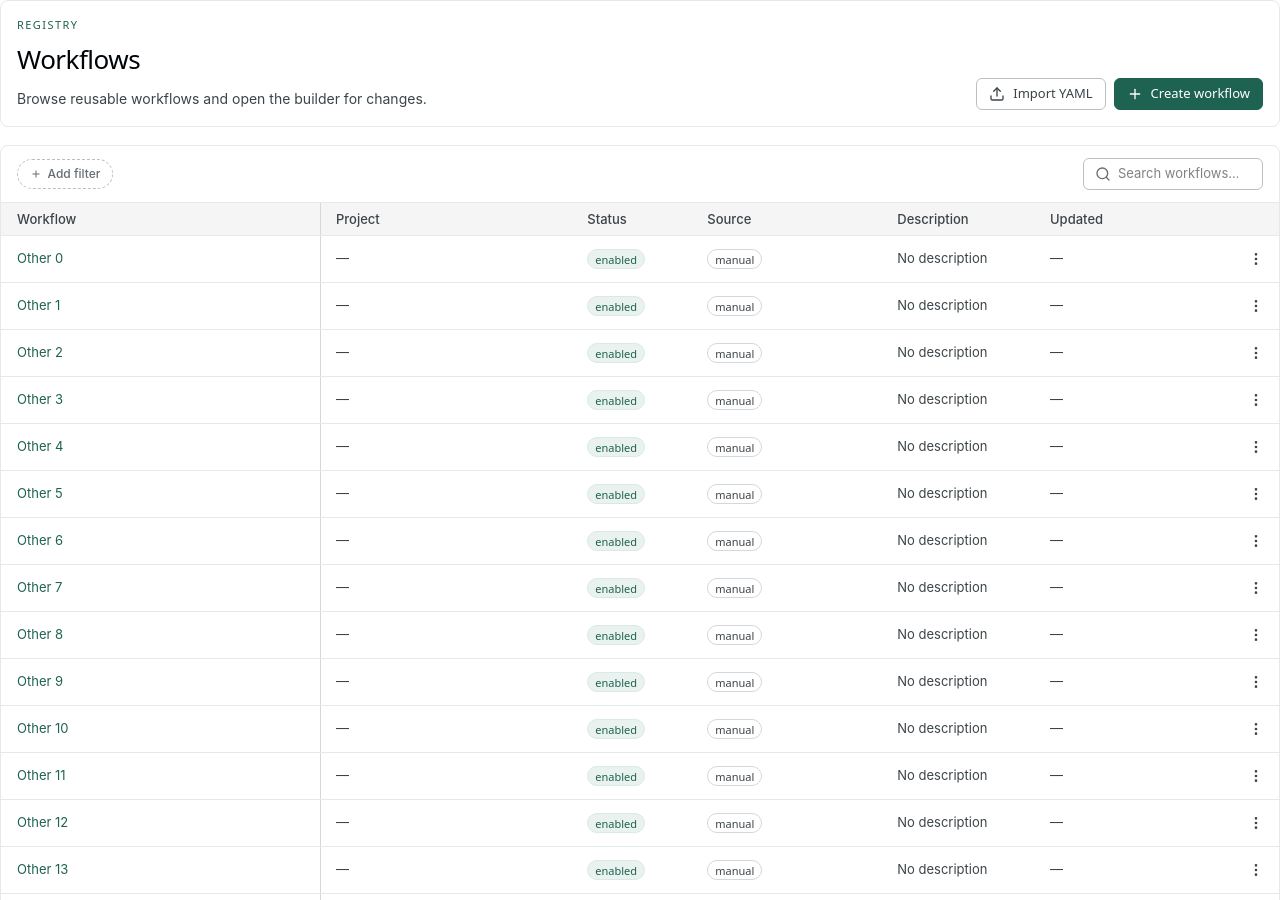
it: offers the project filter only through Add filter and restores unassigned workflows when it is removed
This screenshot has width=1280, height=900.
Expected: the text "Project · " is not shown
Click the button "Add filter": point(65, 174) [17, 159, 113, 189]
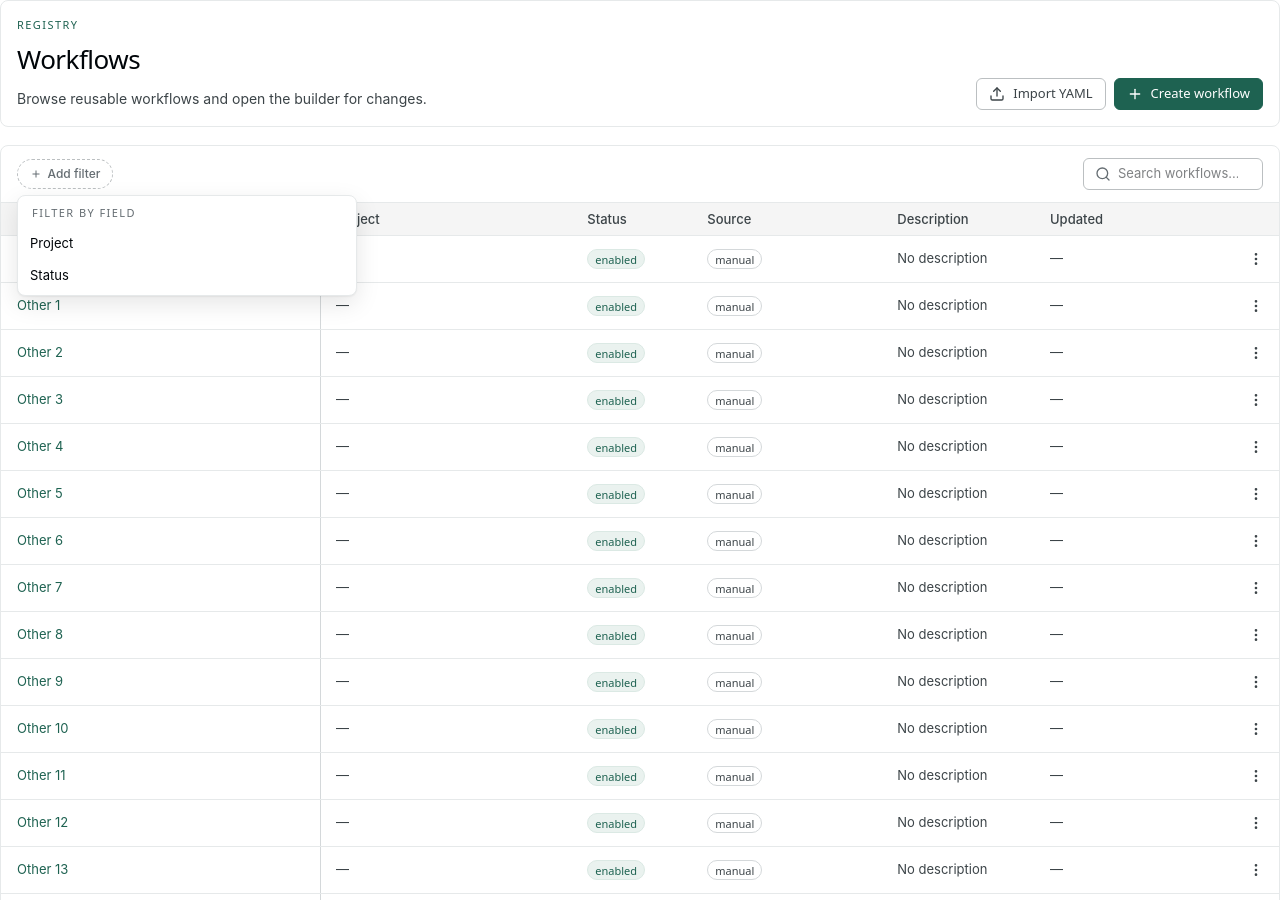
Click the menu item "Project": point(52, 243) [22, 227, 352, 259]
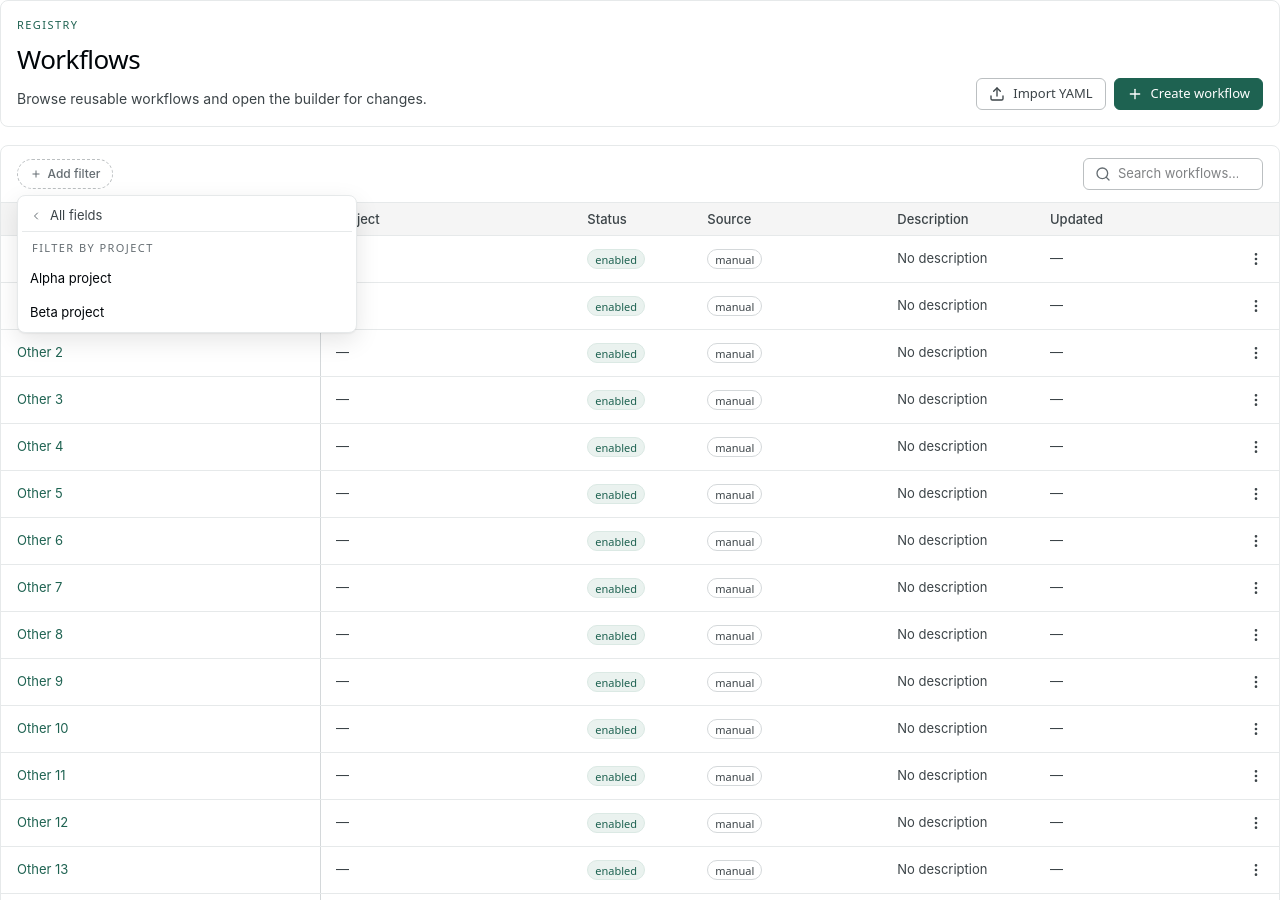
Click the menu item "Beta project": point(67, 312) [22, 296, 352, 328]
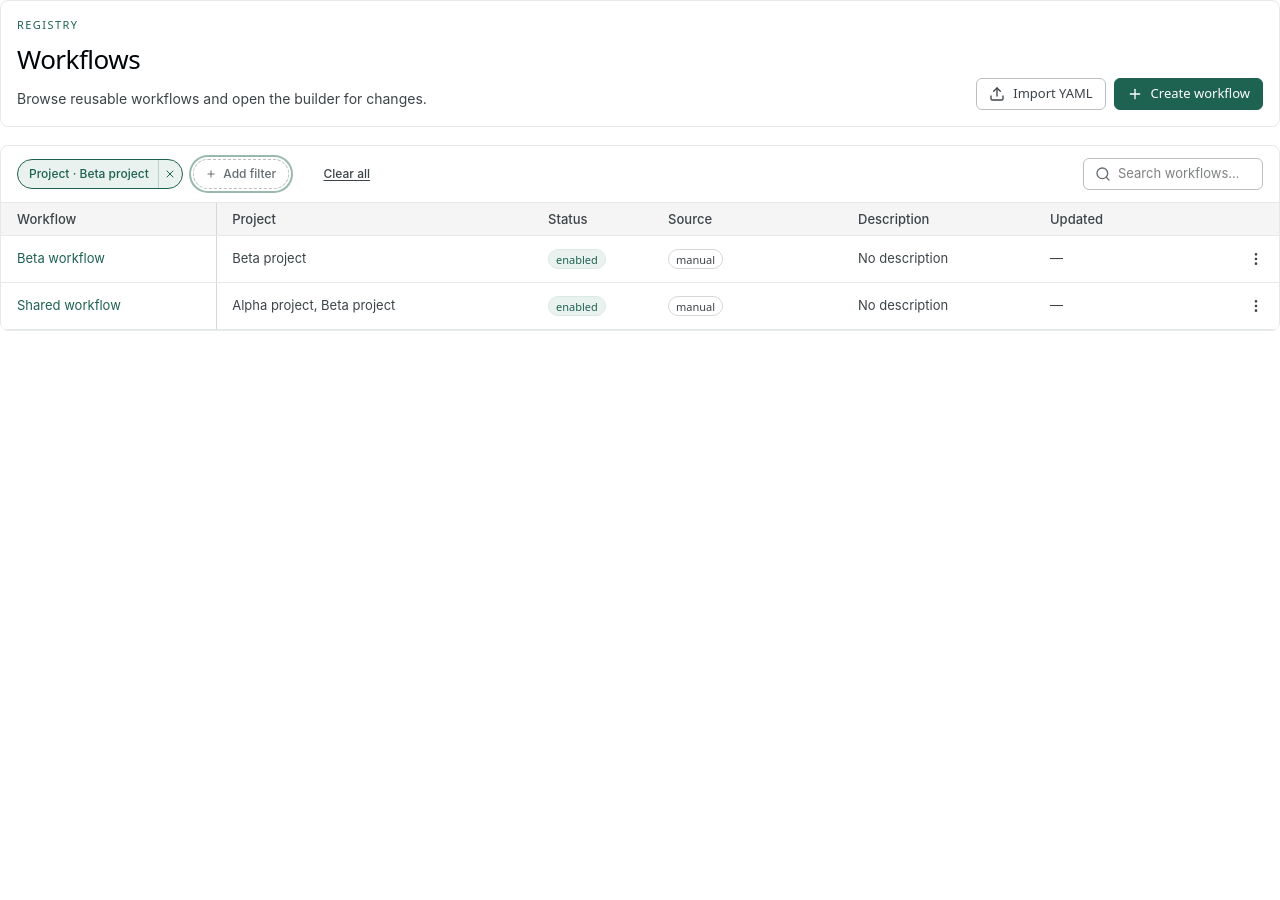
Expected: the link "Beta workflow" is shown, [17, 250, 105, 266]
Expected: the text "Beta project" is shown, [232, 250, 306, 266]
Click the button named "Remove Project filter": point(170, 174) [158, 160, 182, 188]
(page scrolled)
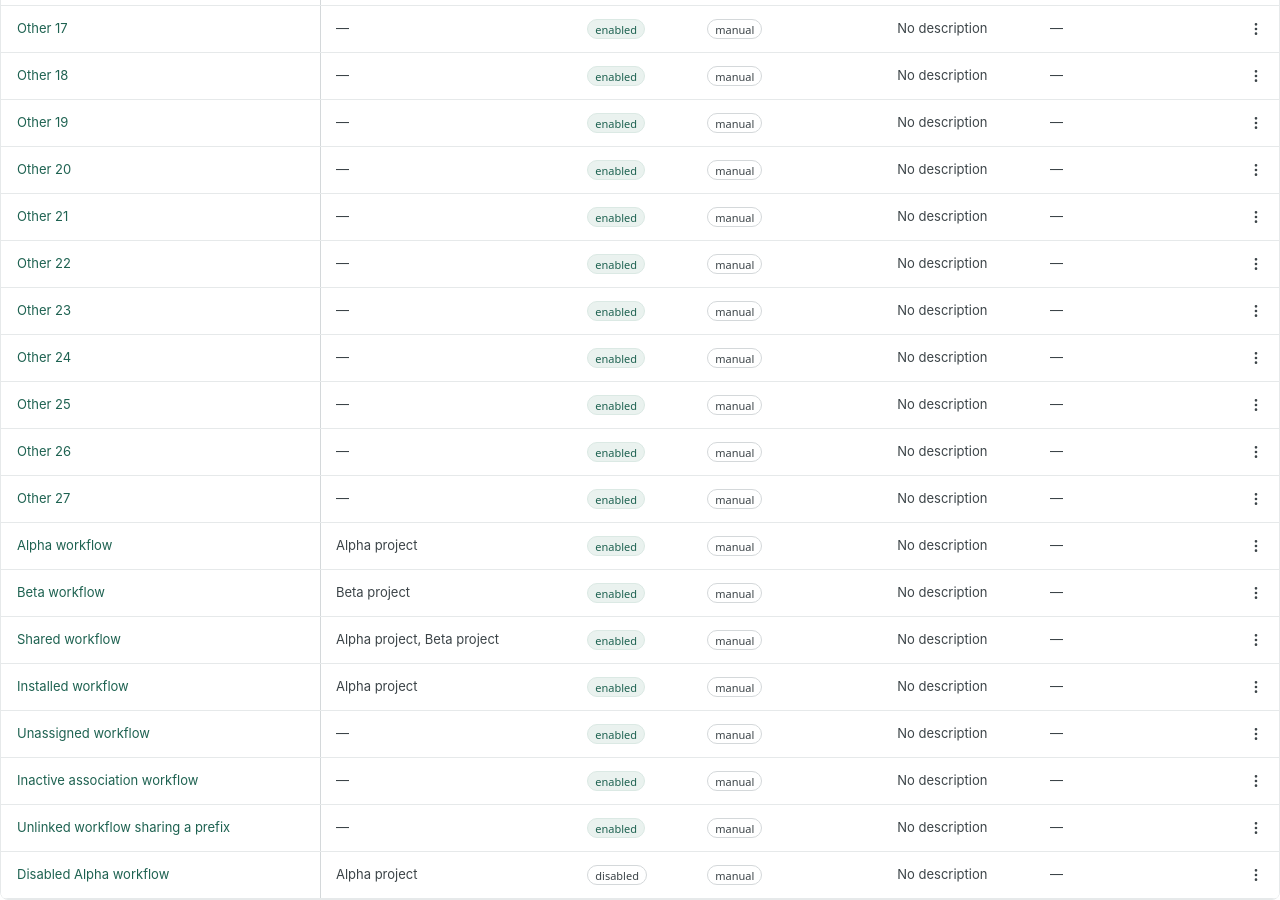
Expected: the link "Unassigned workflow" is shown, [17, 725, 150, 741]
Expected: the text "Project · " is gone
